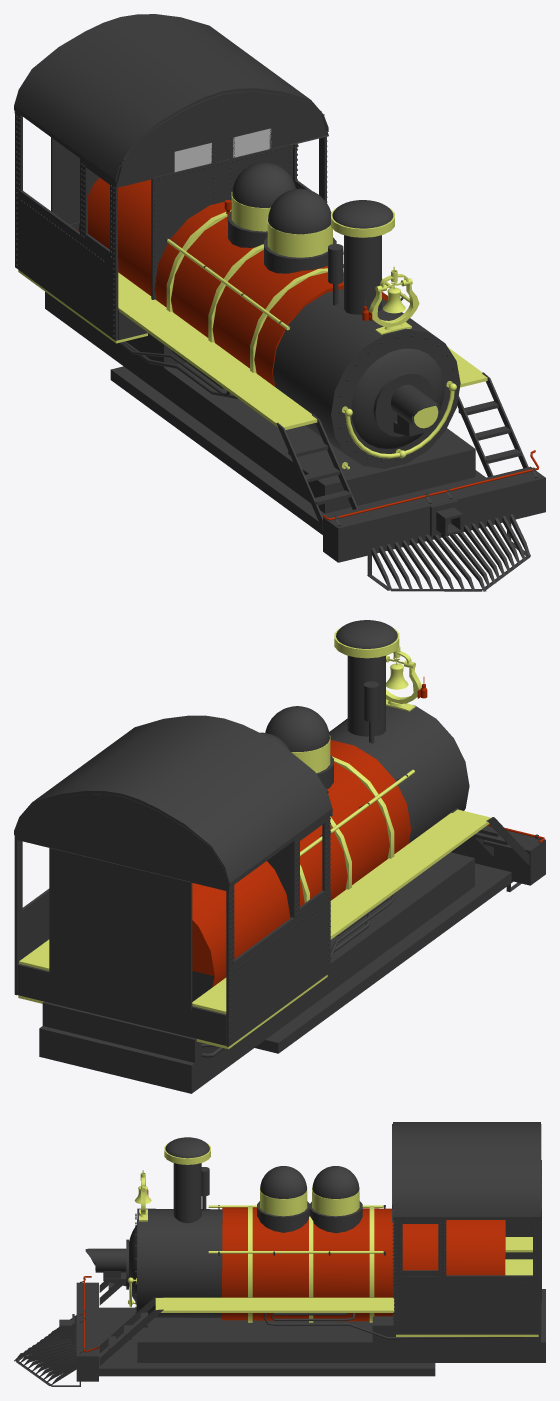
Rendered from Loc.fbx.
3 renders of one model, top to bottom at view 1: azimuth 30°, elevation 25°; view 2: azimuth 150°, elevation 25°; view 3: azimuth 270°, elevation 25°, orthographic. The views are drawn at different scales.
Visible parts, largest first — view 1: Box047; view 2: Box047; view 3: Box047.
Part boxes in pixels (left/top/right/bottom): Box047: left=14, top=14, right=545, bottom=591; Box047: left=14, top=620, right=545, bottom=1093; Box047: left=14, top=1122, right=545, bottom=1386.
Size of the model in its own units: 1171 by 1596 by 3387.
